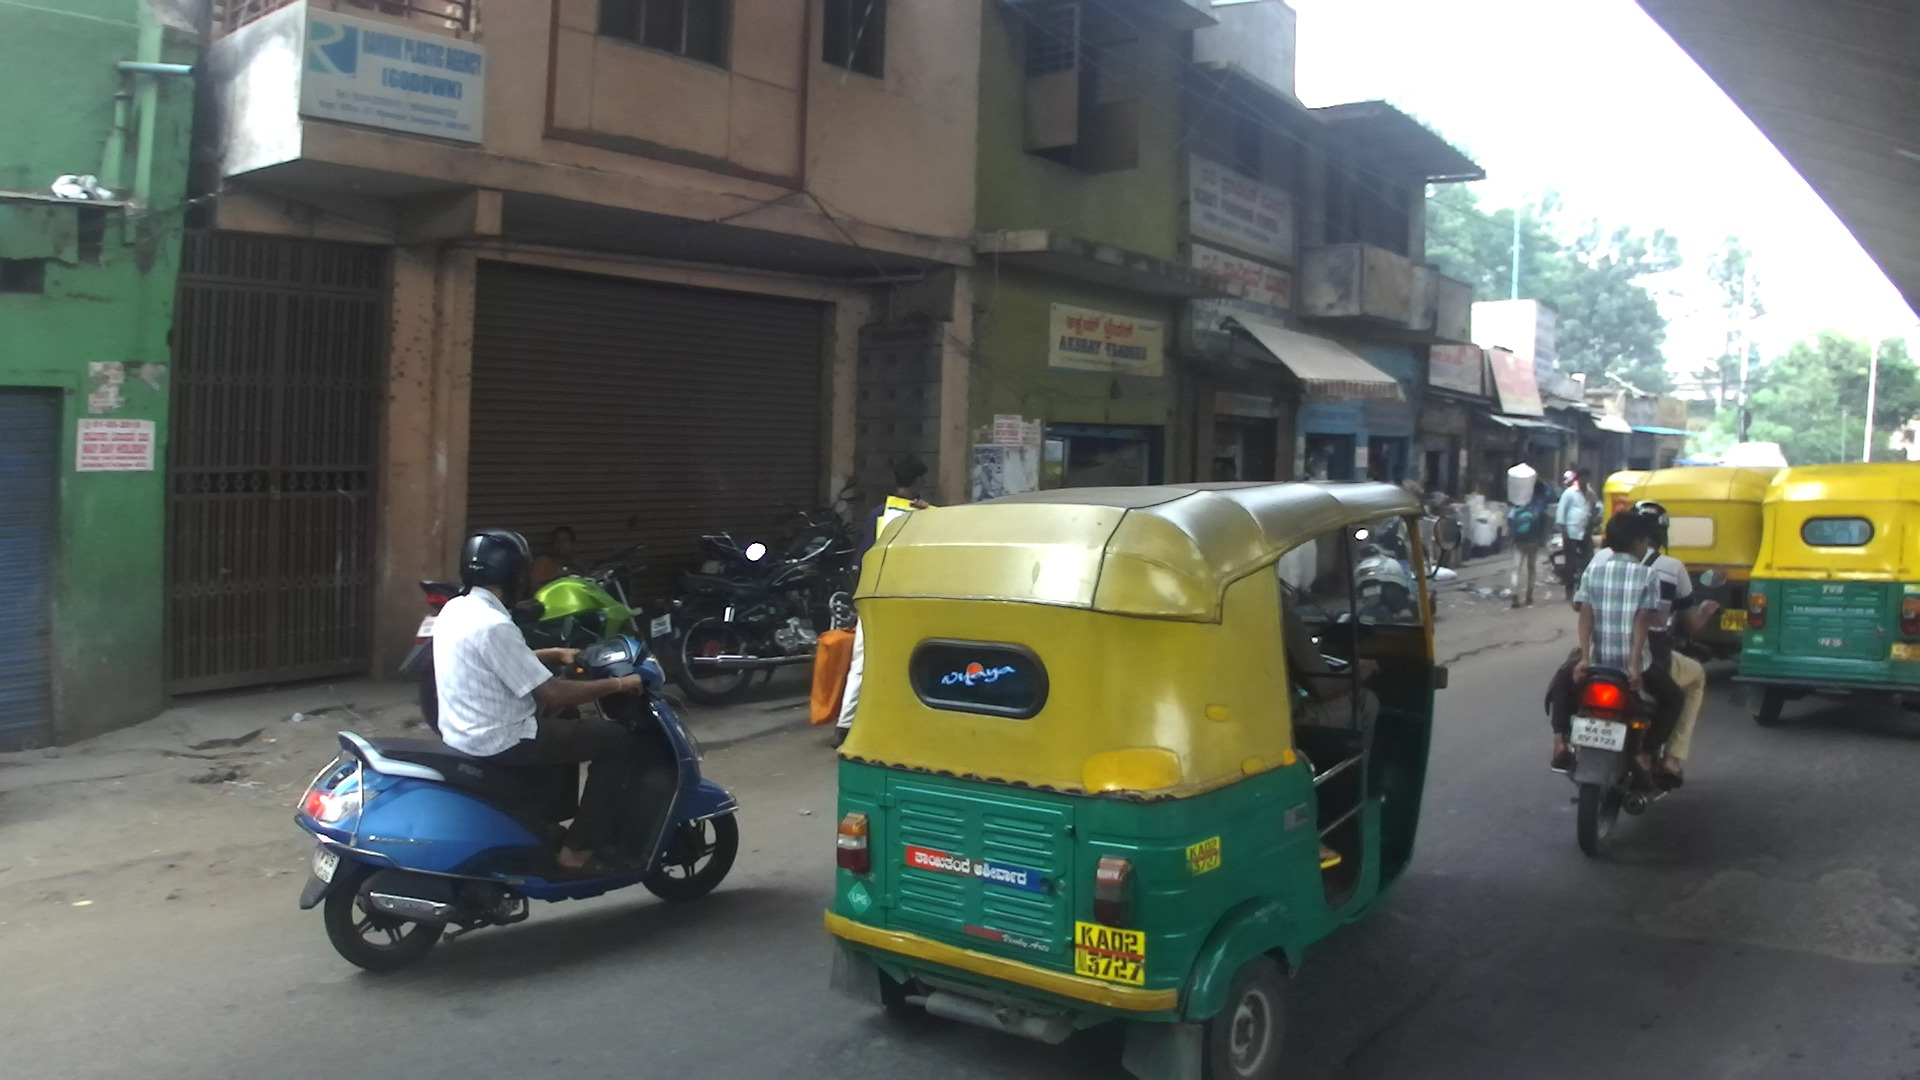autorickshaw: (823, 481, 1462, 1080), (1730, 460, 1920, 727), (1642, 465, 1788, 667), (1601, 470, 1655, 550)
motorcycle: (294, 615, 740, 972), (398, 510, 648, 740), (1550, 568, 1729, 858), (646, 498, 865, 706), (697, 475, 866, 584), (1545, 532, 1583, 584)
person: (809, 458, 935, 751), (1507, 464, 1556, 611), (1554, 465, 1598, 603), (526, 527, 590, 598)
rider: (432, 528, 644, 876), (1572, 501, 1720, 786), (1544, 510, 1687, 795)
vehicle fallback: (1726, 438, 1781, 464)
